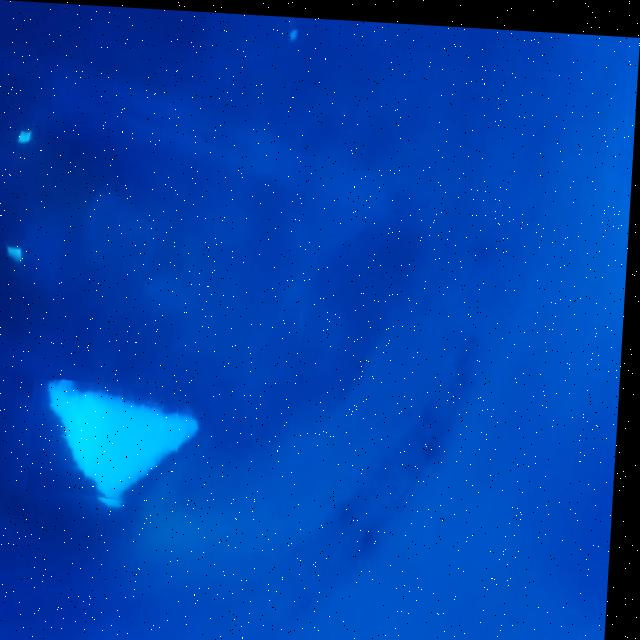thermocoal: (33, 378, 214, 510)
